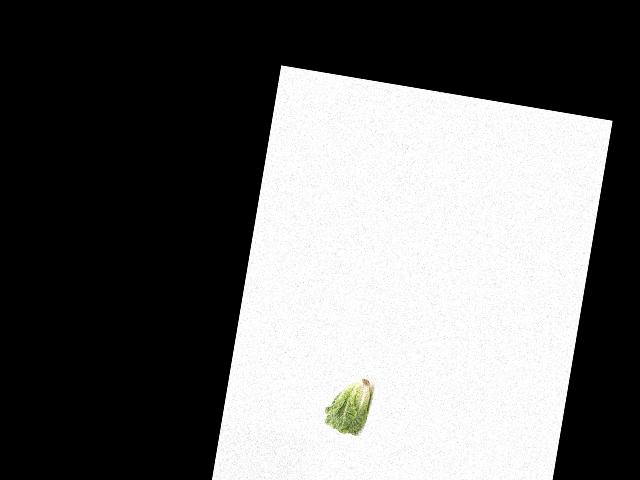lettuce: (321, 370, 375, 437)
